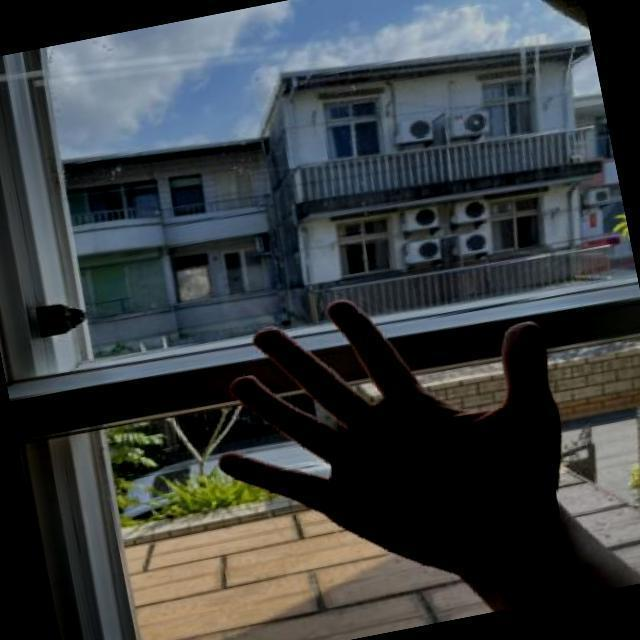hand: (174, 244, 608, 616)
